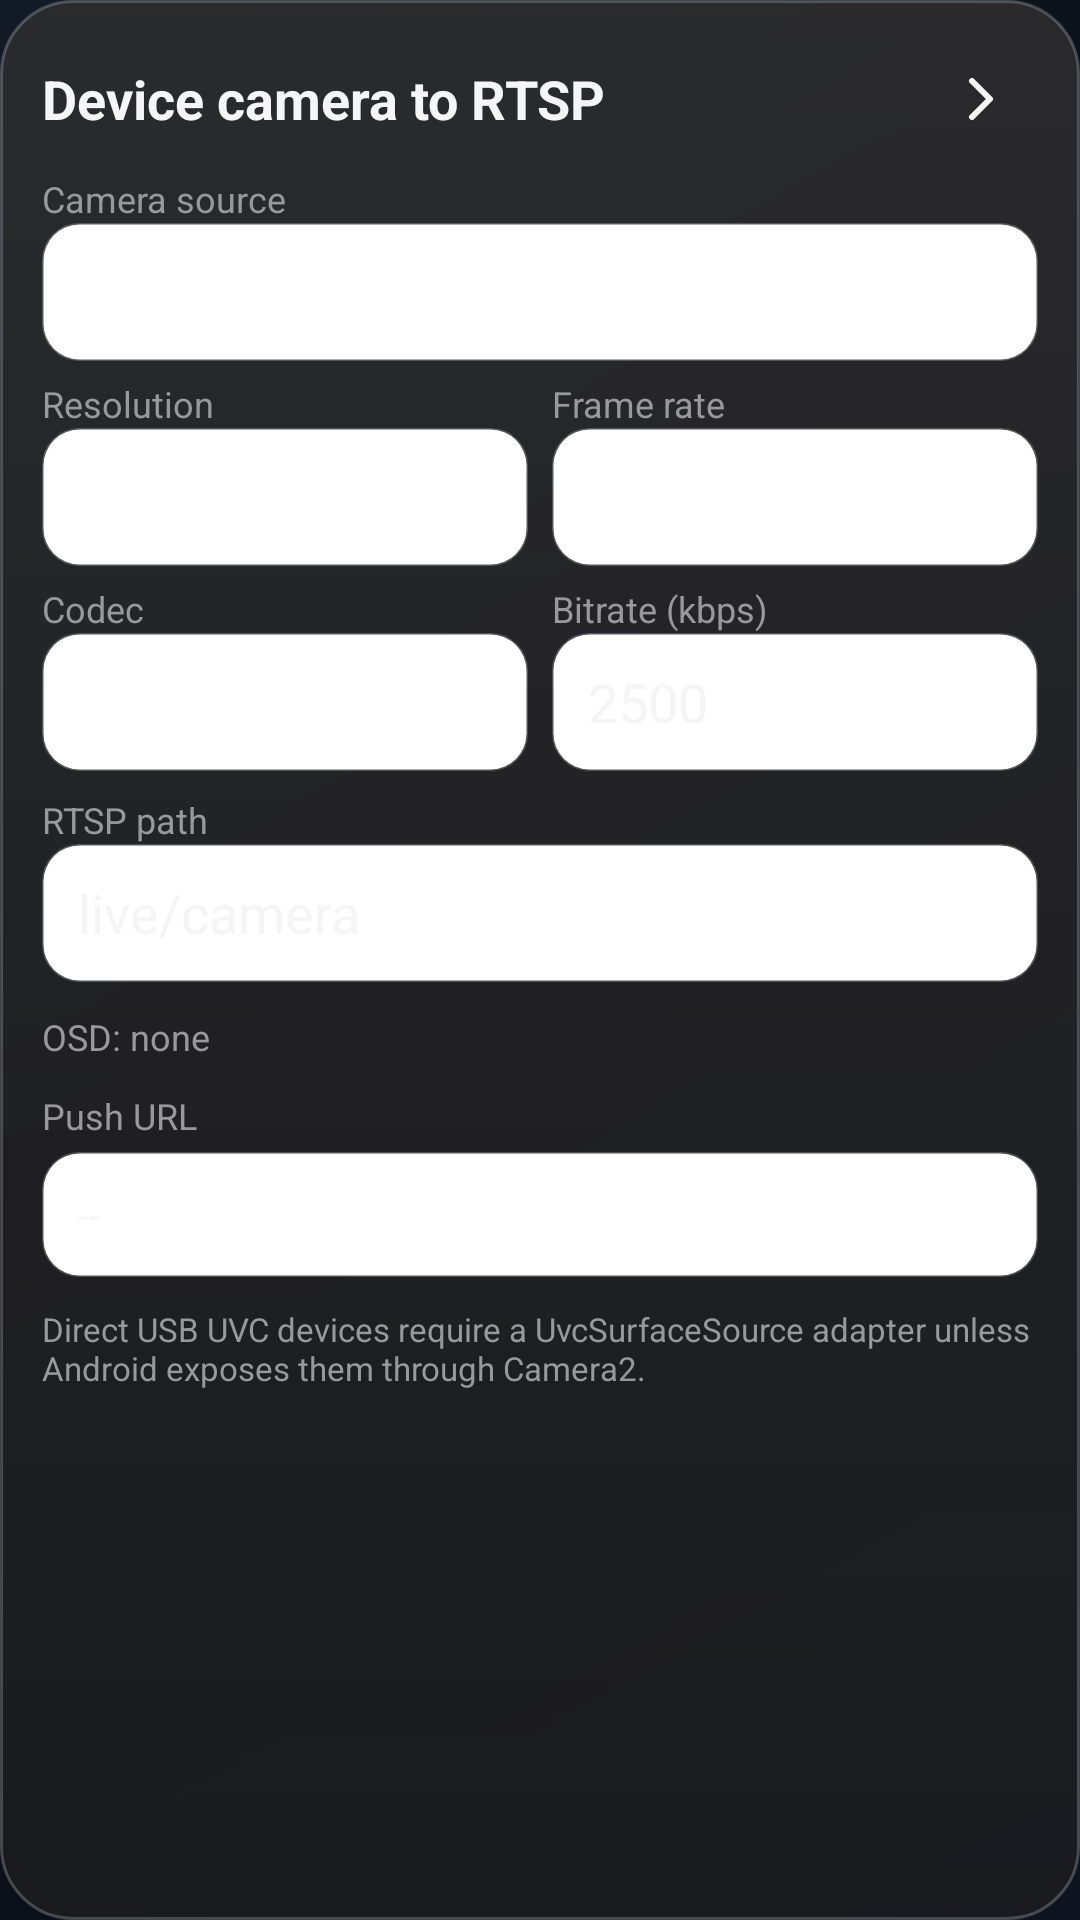

Icon bounding boxes for this 1080 × 1920 phone screenshot, format (x1, y1, x2, y2):
Collapse panel: (969, 78, 993, 120)
